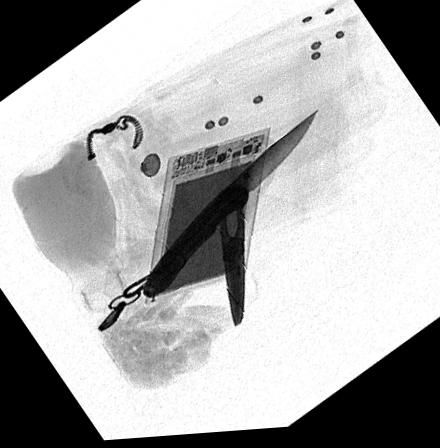Knife: (140, 112, 317, 300)
Powerbank: (141, 128, 270, 308)
Scissors: (175, 136, 279, 333)
